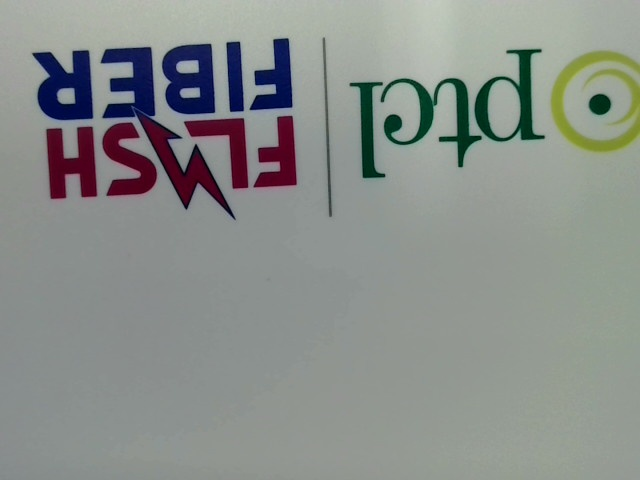BF_PTCL: (343, 39, 639, 179)
